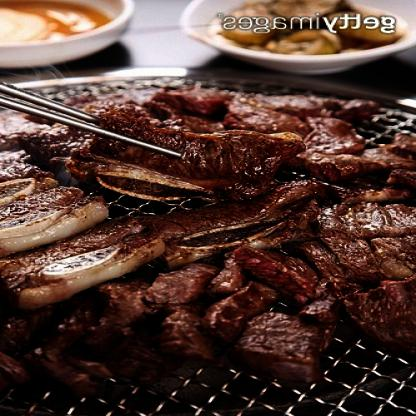Carne: (88, 100, 305, 187), (43, 309, 123, 391), (216, 323, 333, 375), (295, 185, 415, 235), (194, 280, 292, 341), (336, 274, 415, 348), (304, 233, 415, 284), (232, 243, 323, 304), (72, 283, 167, 340), (297, 110, 374, 179), (122, 266, 224, 310), (85, 314, 145, 382), (160, 302, 221, 356)
